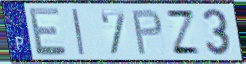3: (201, 7, 233, 57)
7: (99, 8, 128, 56)
E: (26, 6, 68, 57)
I: (70, 7, 86, 57)
P: (130, 8, 165, 57)
Z: (164, 8, 203, 56)
